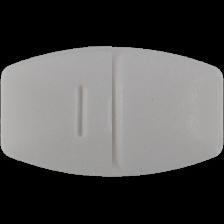64380-742: (0, 0, 224, 224)
